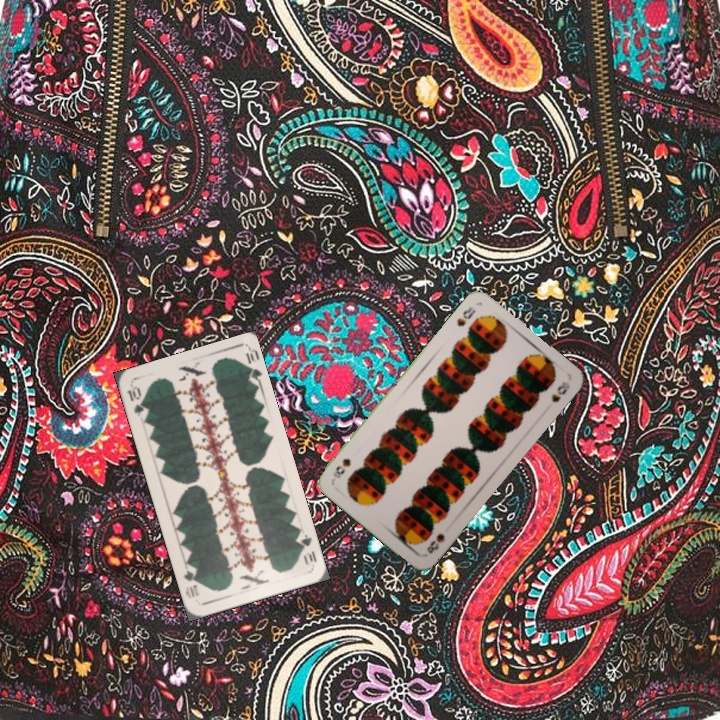G10: (293, 529, 319, 568), (123, 382, 148, 419)
S8: (452, 302, 478, 329), (422, 529, 447, 556)
